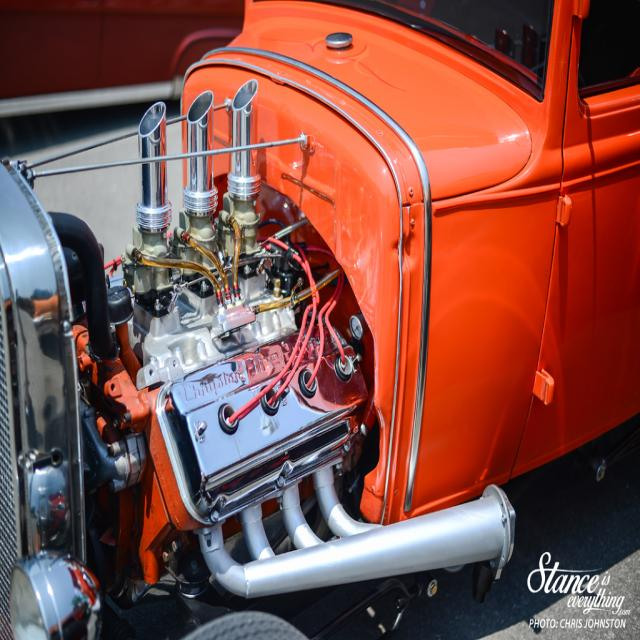car: (90, 6, 614, 618)
